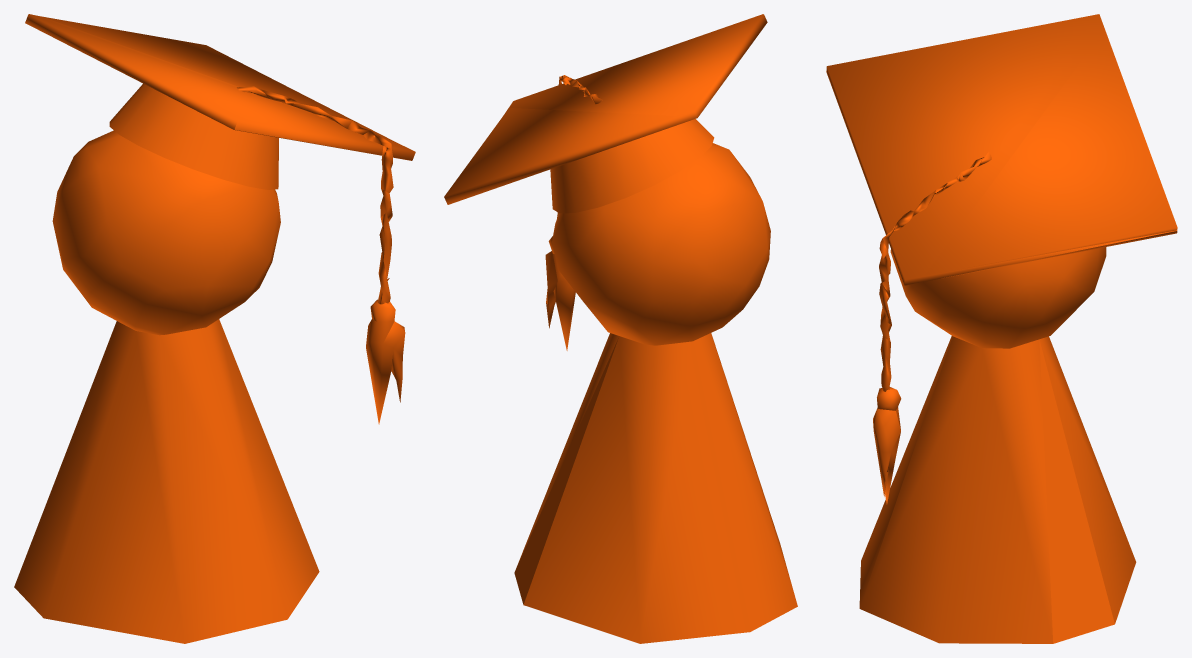
File: Schorsch.FBX
3 renders of one model, left to right at view 1: azimuth 30°, elevation 25°; view 2: azimuth 150°, elevation 25°; view 3: azimuth 270°, elevation 25°, orthographic. The views are drawn at different scales.
Parts seen in each view (by area): view 1: Figur002, Cylinder004, Cylinder002, Dangle dangle001, Band002; view 2: Figur002, Cylinder004, Cylinder002, Dangle dangle001; view 3: Figur002, Cylinder002, Cylinder004, Band002, Dangle dangle001.
Boxes of the visible parts, bbox=[...] form: Figur002: bbox=[14, 130, 319, 643]; Cylinder004: bbox=[25, 14, 411, 189]; Cylinder002: bbox=[29, 14, 415, 160]; Dangle dangle001: bbox=[366, 299, 405, 424]; Band002: bbox=[237, 86, 393, 304]; Figur002: bbox=[514, 143, 797, 643]; Cylinder004: bbox=[444, 14, 767, 213]; Cylinder002: bbox=[506, 14, 763, 115]; Dangle dangle001: bbox=[545, 236, 575, 350]; Figur002: bbox=[859, 247, 1136, 643]; Cylinder002: bbox=[826, 14, 1177, 285]; Cylinder004: bbox=[826, 14, 1177, 277]; Band002: bbox=[879, 152, 991, 391]; Dangle dangle001: bbox=[873, 387, 901, 504].
Bounding box in the file's own units: 12.67 × 11.93 × 19.89.
